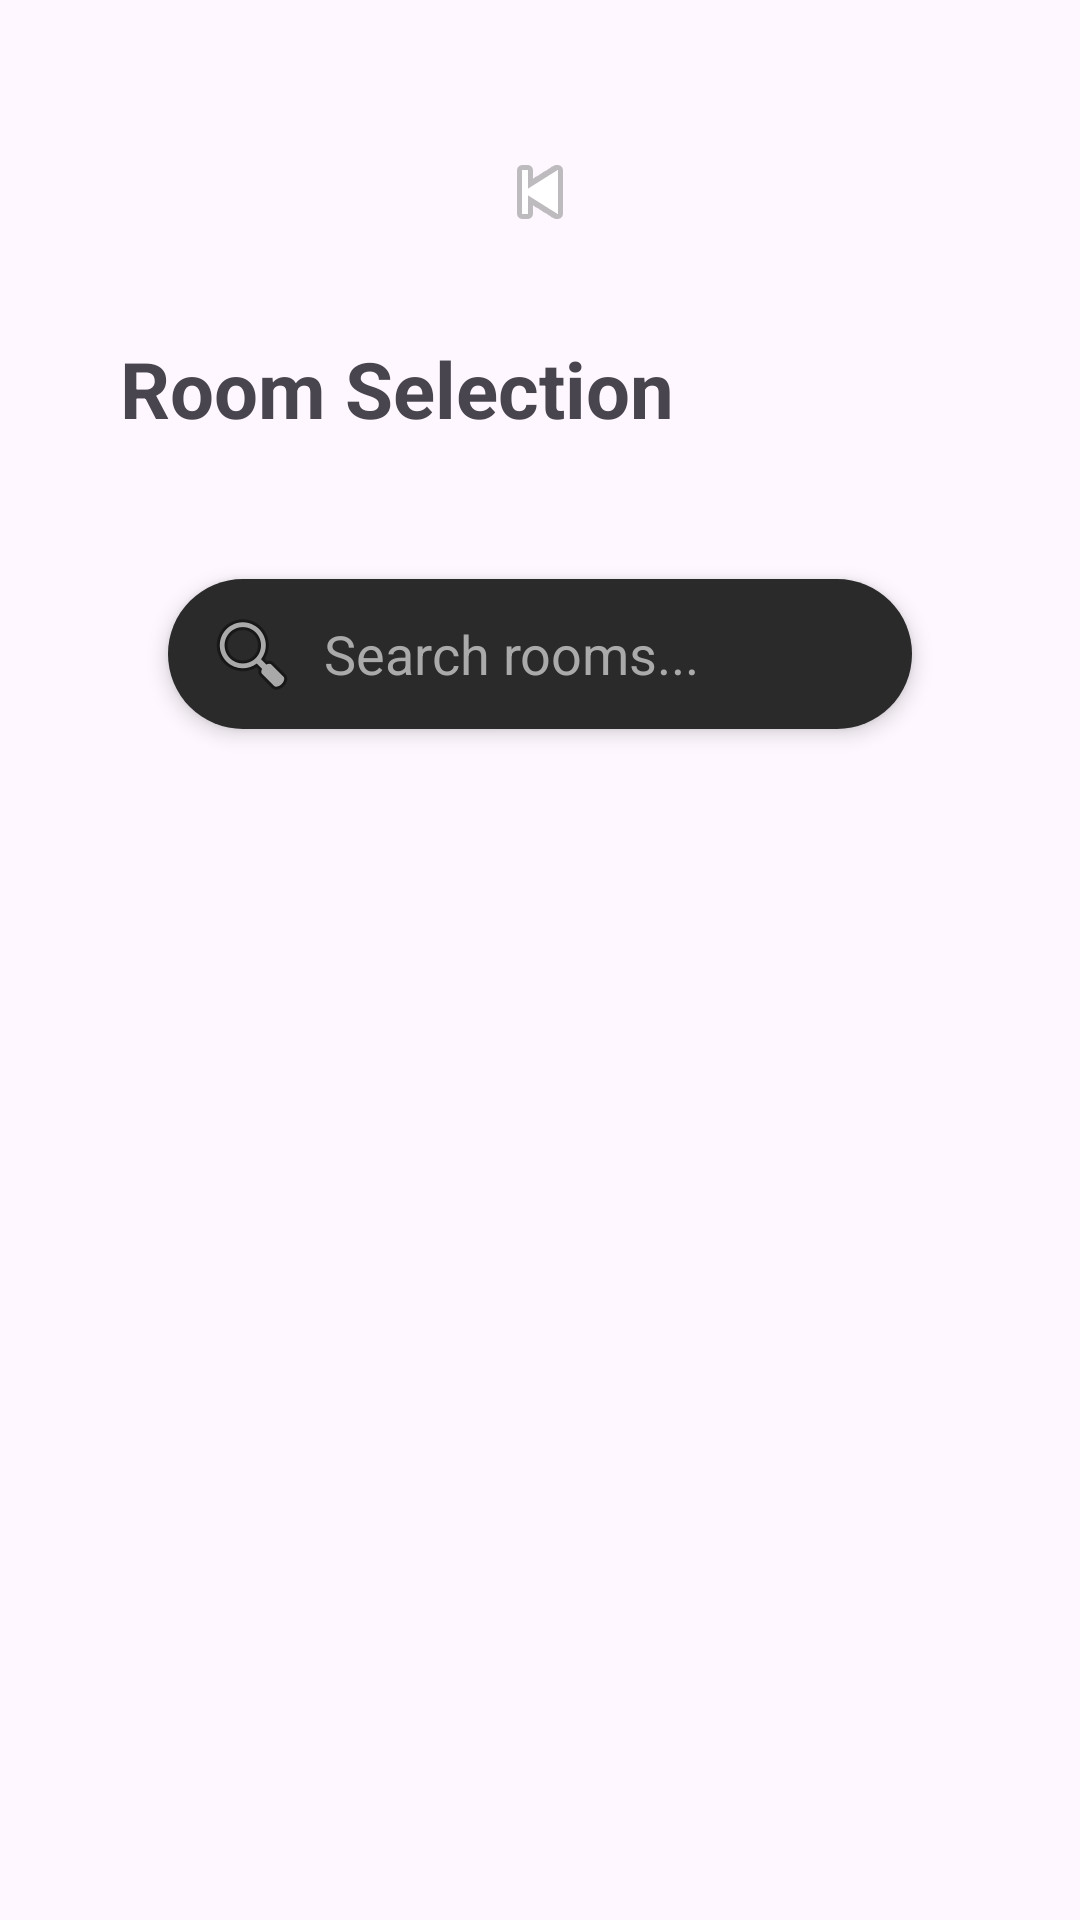

Icons on this 1080×1920 Android screen, each with its box as Rect(x1, y1, x2, y2):
previous: Rect(517, 165, 563, 219)
